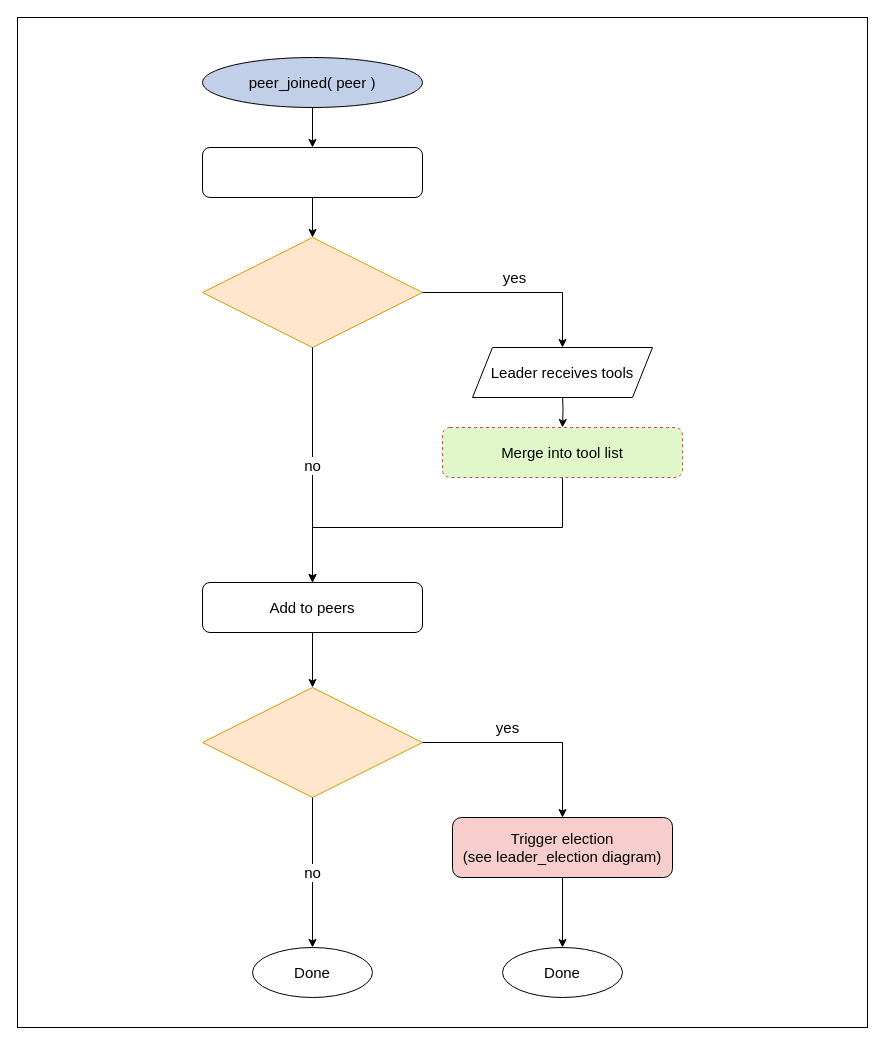
Some shapes in this 885 by 1045 pixel diagram are drawn without their labels. Each missing label, with the centre of its shape:
"Approach 1 agent?" belongs at point (312, 292).
"Connect agent A2A" belongs at point (312, 172).
"Score higher than current leader?" belongs at point (312, 742).
